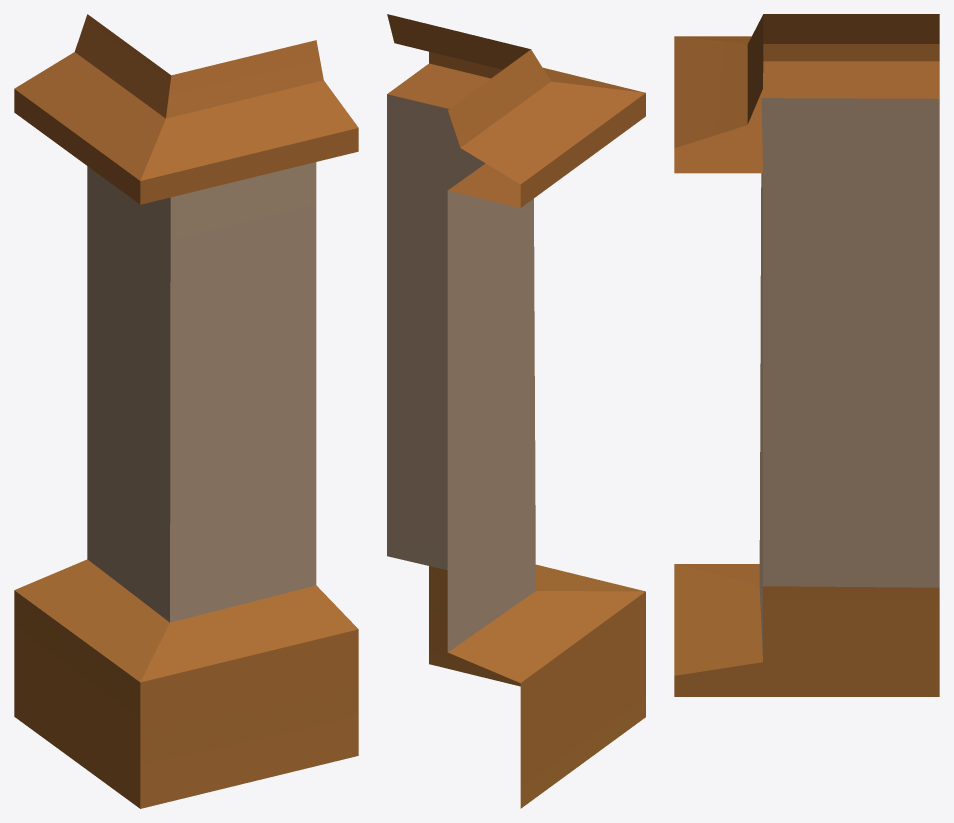
Rendered from corner_wall_inside_plain_B.fbx.
The picture shows the model from 3 angles, left to right: view 1: azimuth 30°, elevation 25°; view 2: azimuth 150°, elevation 25°; view 3: azimuth 270°, elevation 25°; orthographic projection. The views are drawn at different scales.
Parts seen in each view (by area): view 1: corner_wall_inside_plain_B; view 2: corner_wall_inside_plain_B; view 3: corner_wall_inside_plain_B.
Boxes of the visible parts, x1,y1,x2,y2 form: corner_wall_inside_plain_B: (14, 14, 358, 808); corner_wall_inside_plain_B: (387, 14, 645, 808); corner_wall_inside_plain_B: (674, 14, 939, 696).
Size of the model in its own units: 100 by 300 by 100.
